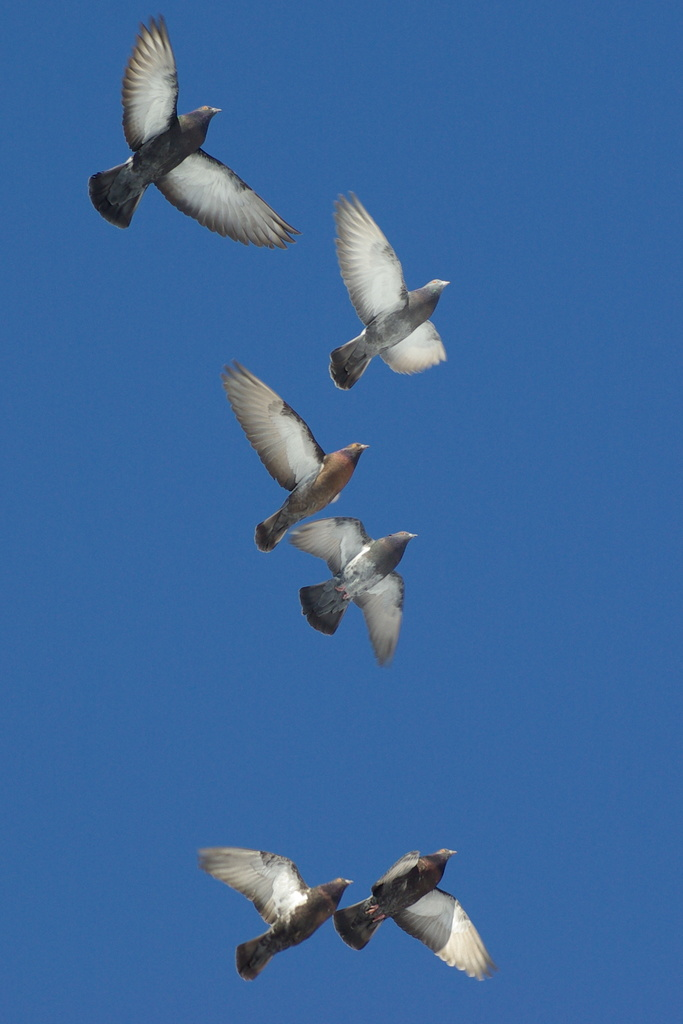Bird: (89, 12, 301, 251), (222, 358, 370, 551), (328, 189, 450, 390), (331, 847, 502, 985), (198, 850, 354, 982), (298, 515, 419, 671)
